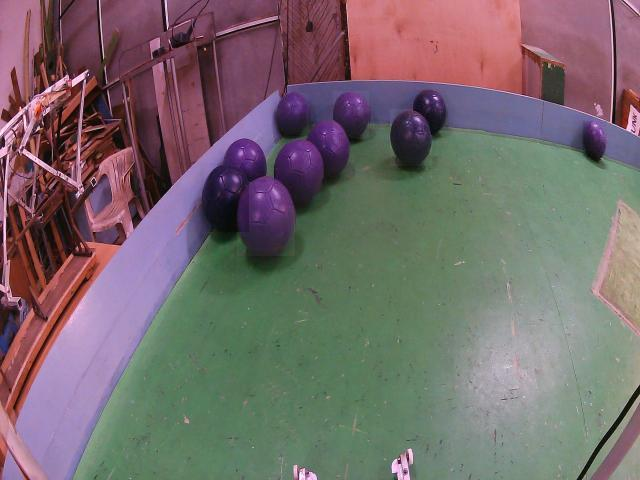jambhalya: (237, 176, 295, 256), (275, 140, 323, 205), (306, 120, 350, 178), (224, 138, 266, 182), (334, 92, 369, 139), (277, 93, 309, 135), (583, 122, 607, 159)
kaalyya: (201, 163, 249, 232), (390, 110, 432, 166), (413, 90, 447, 135)
